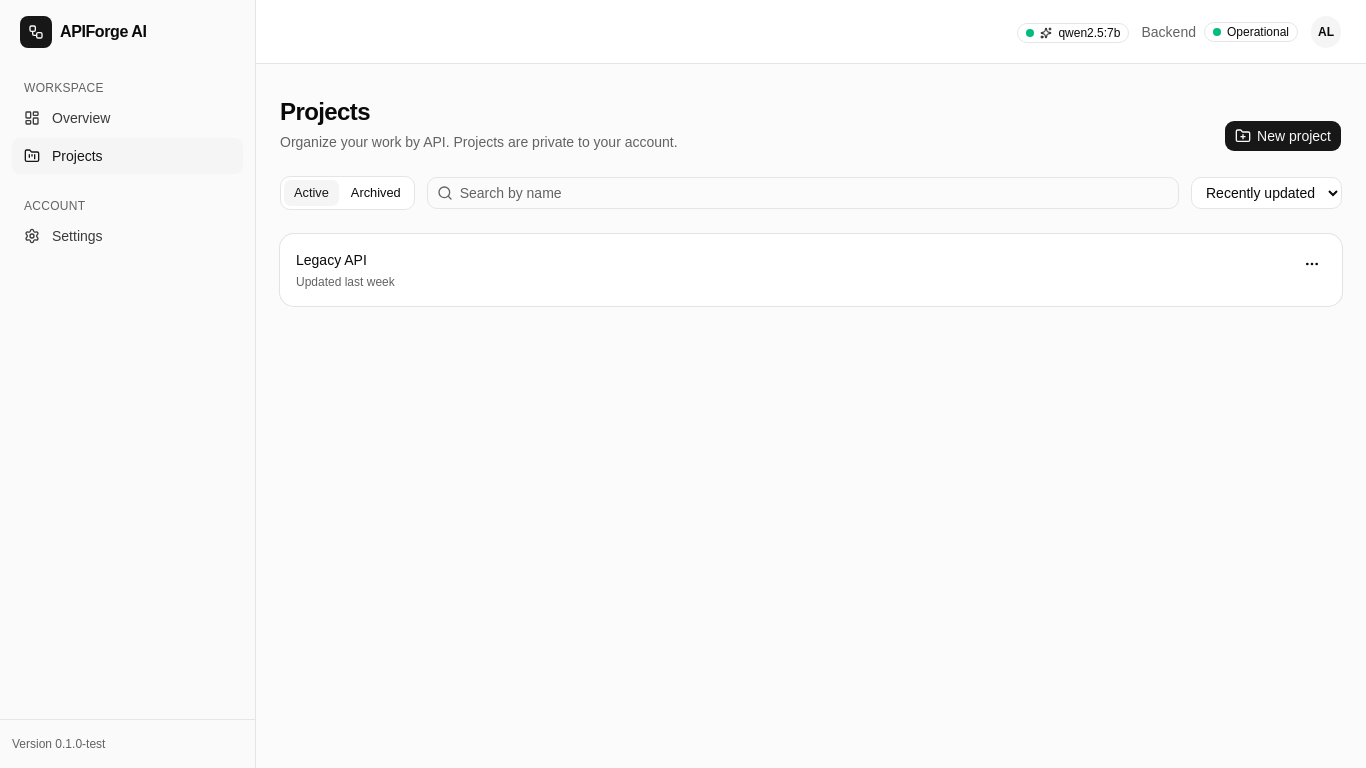
ProjectsPage › requires typing the project name before deleting
The width and height of the screenshot is (1366, 768).
Click the button named "Actions for Legacy API".
click(1312, 264)  # box 1298,250 -> 1326,278
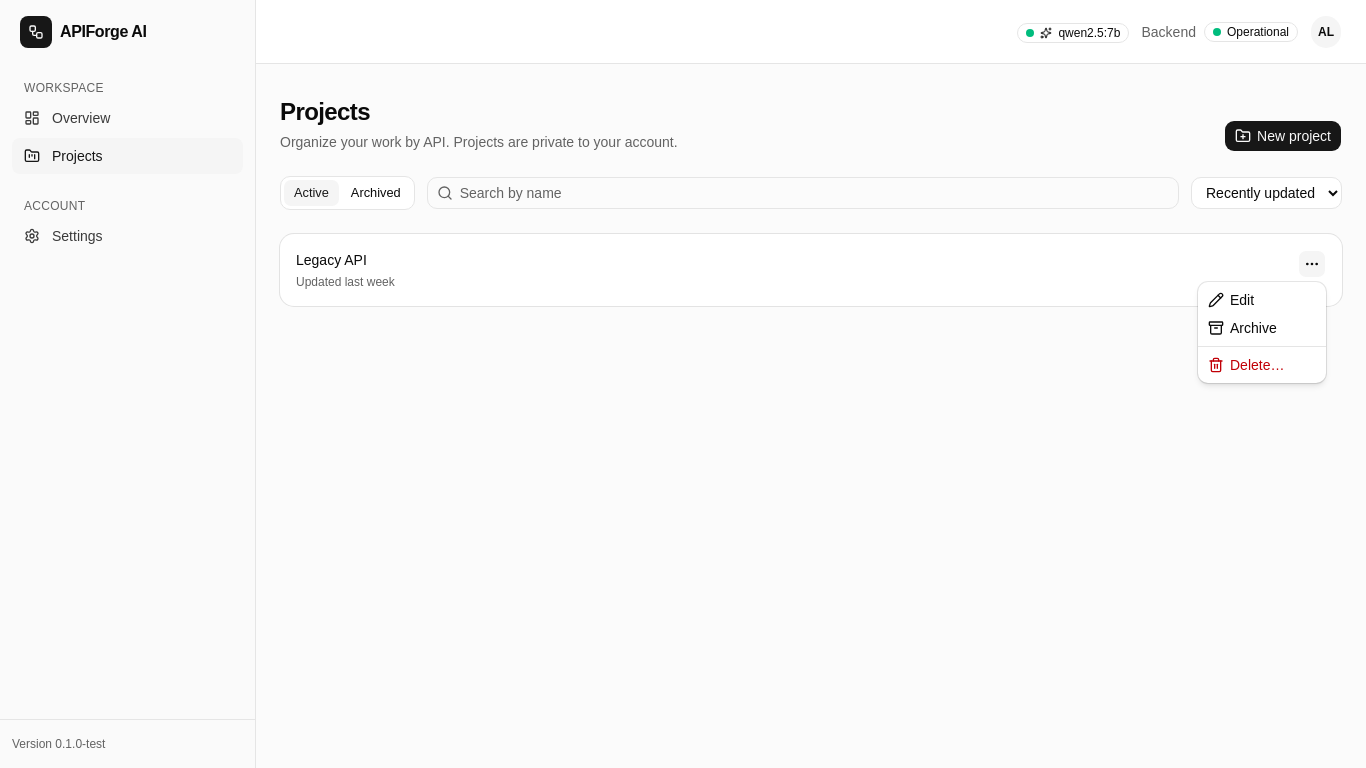
Click the menu item "Delete…".
click(1246, 365)  # box 1208,357 -> 1284,373
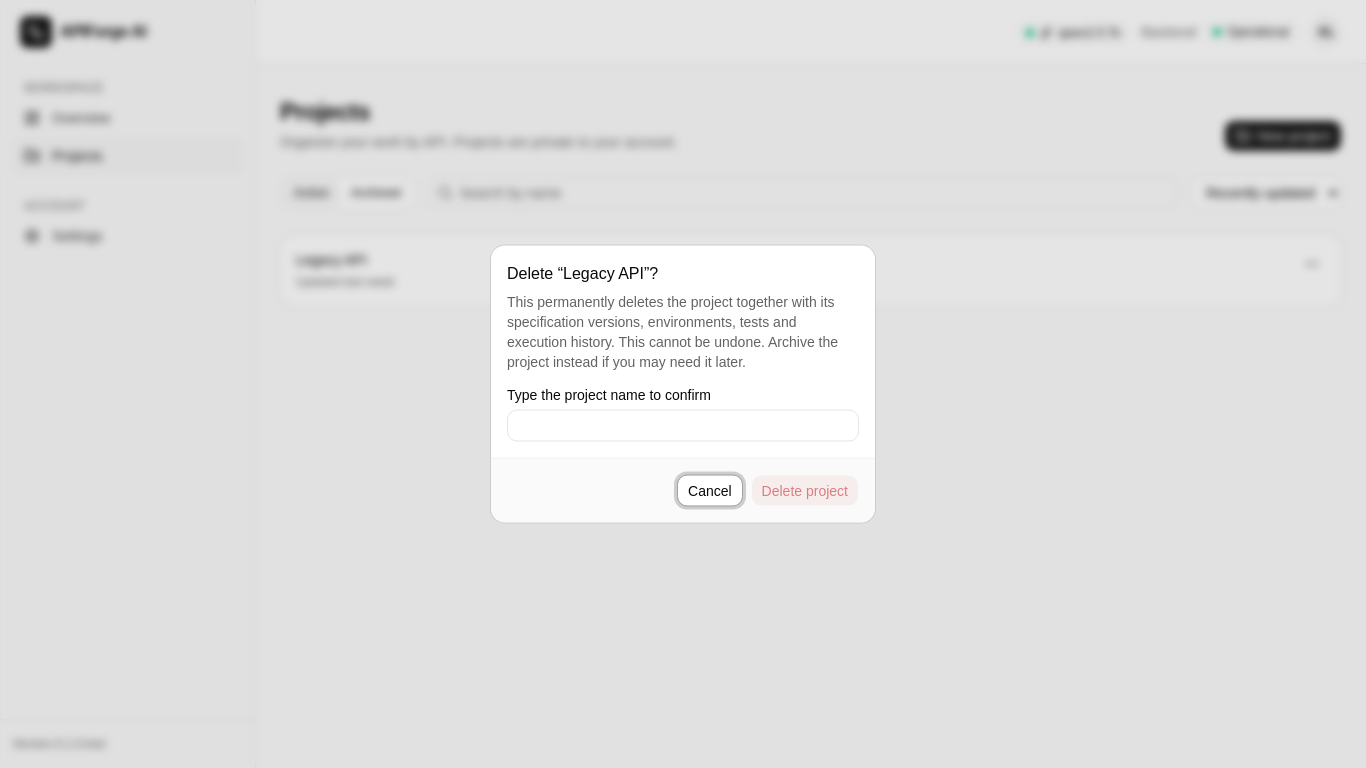
Expected: the button "Delete project" is disabled, 751,474 -> 859,506
Type "Legacy API" into the field labelled "Type the project name to confirm".
click(683, 426); type("Legacy API")  # box 507,410 -> 859,442
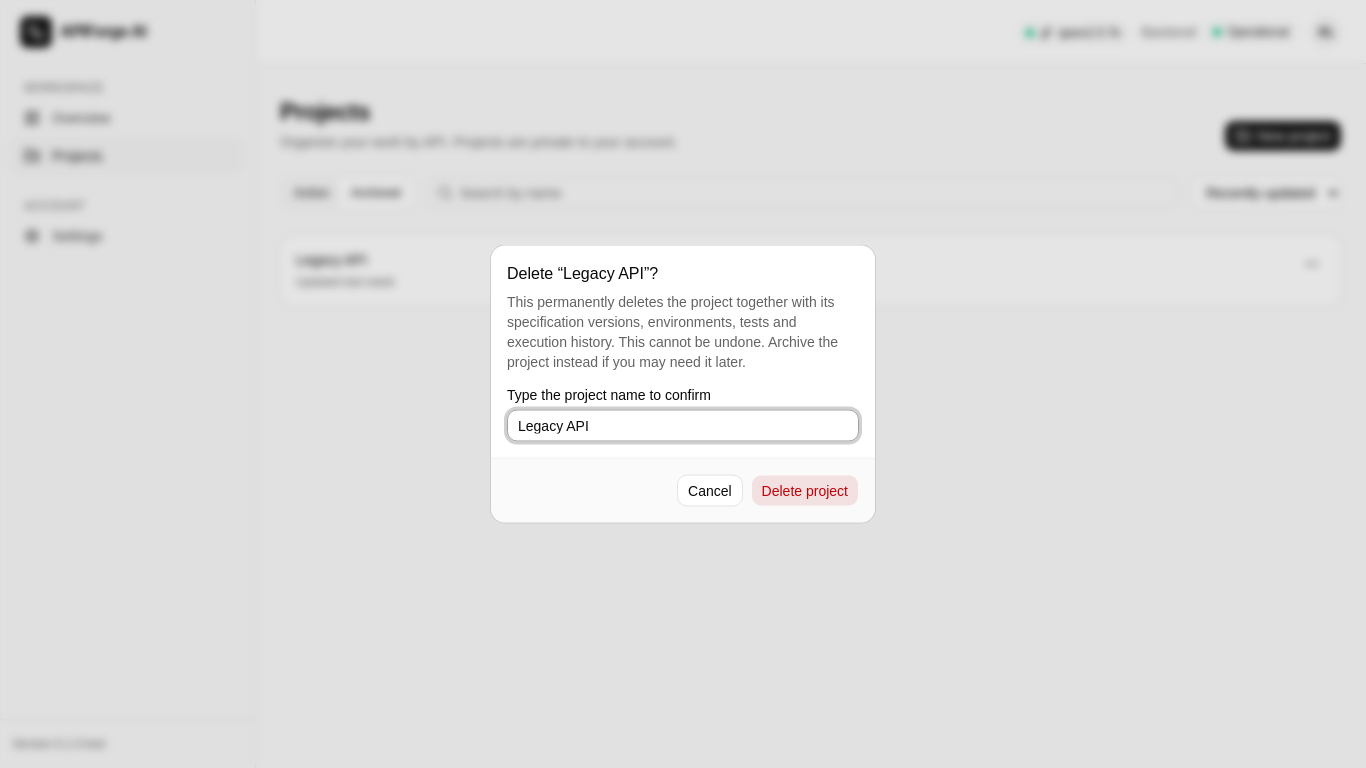
Expected: the button "Delete project" is enabled
Click the button "Delete project".
click(805, 490)  # box 751,474 -> 859,506
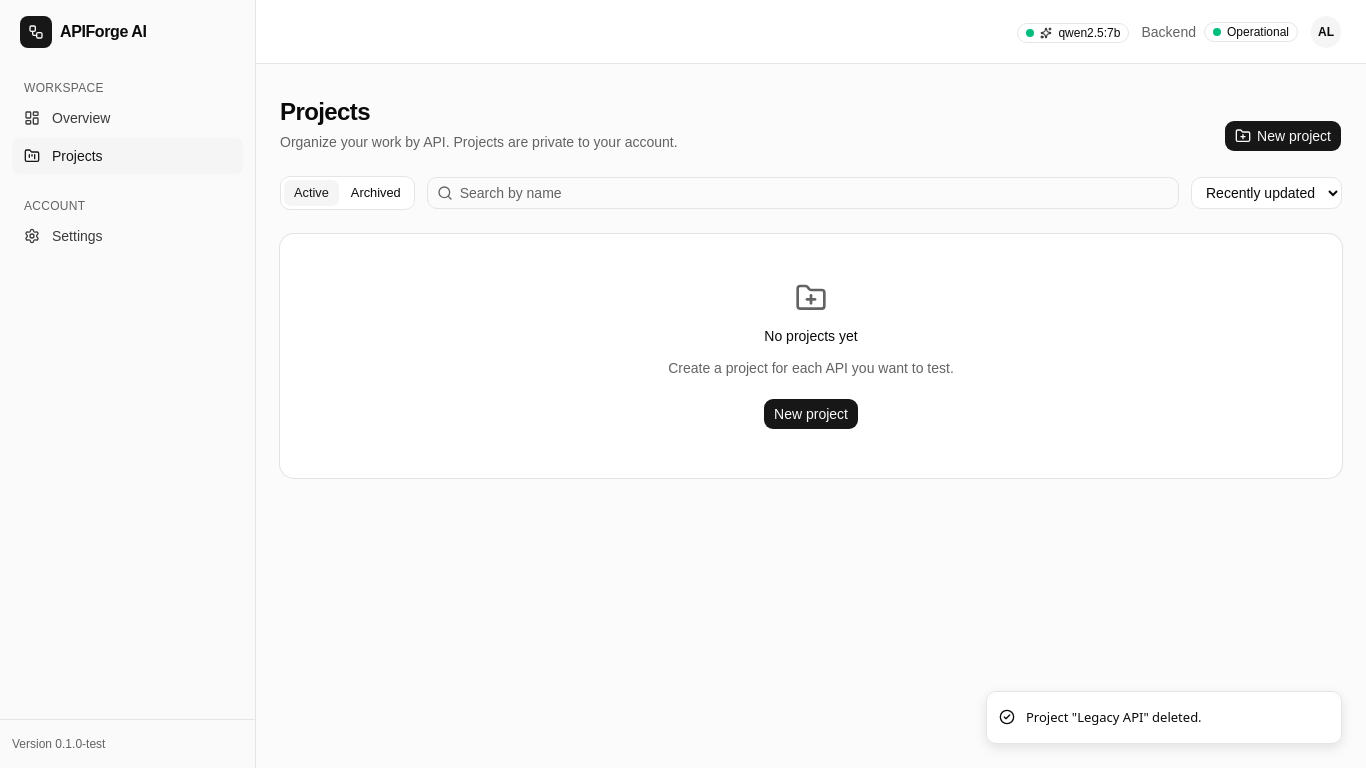
Expected: the heading "No projects yet" is shown, 764,326 -> 858,346
